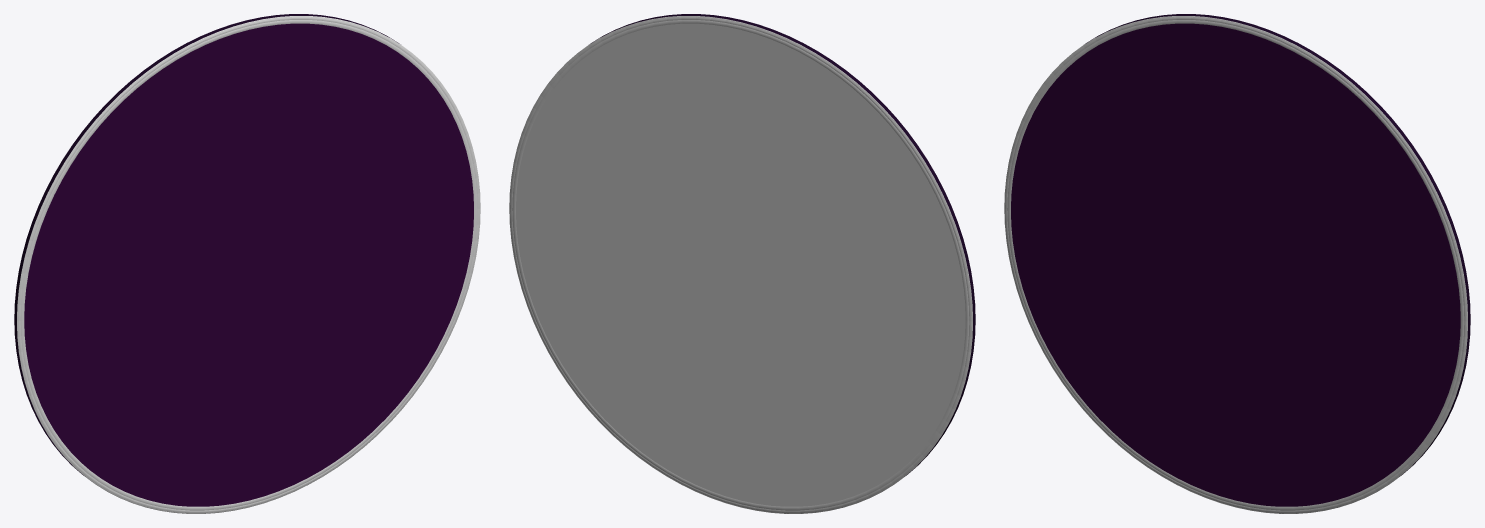
The model's file is pfp-coin.glb.
3 renders of one model, left to right at view 1: azimuth 30°, elevation 25°; view 2: azimuth 150°, elevation 25°; view 3: azimuth 330°, elevation 25°, orthographic.
Visible parts, largest first — view 1: PfpCoin; view 2: PfpCoin; view 3: PfpCoin.
Boxes of the visible parts, box(x1,y1,x2,y2) form: PfpCoin: box(14, 14, 480, 513); PfpCoin: box(509, 14, 975, 513); PfpCoin: box(1004, 14, 1470, 513).
Bounding box in the file's own units: 2 × 2 × 0.025.
